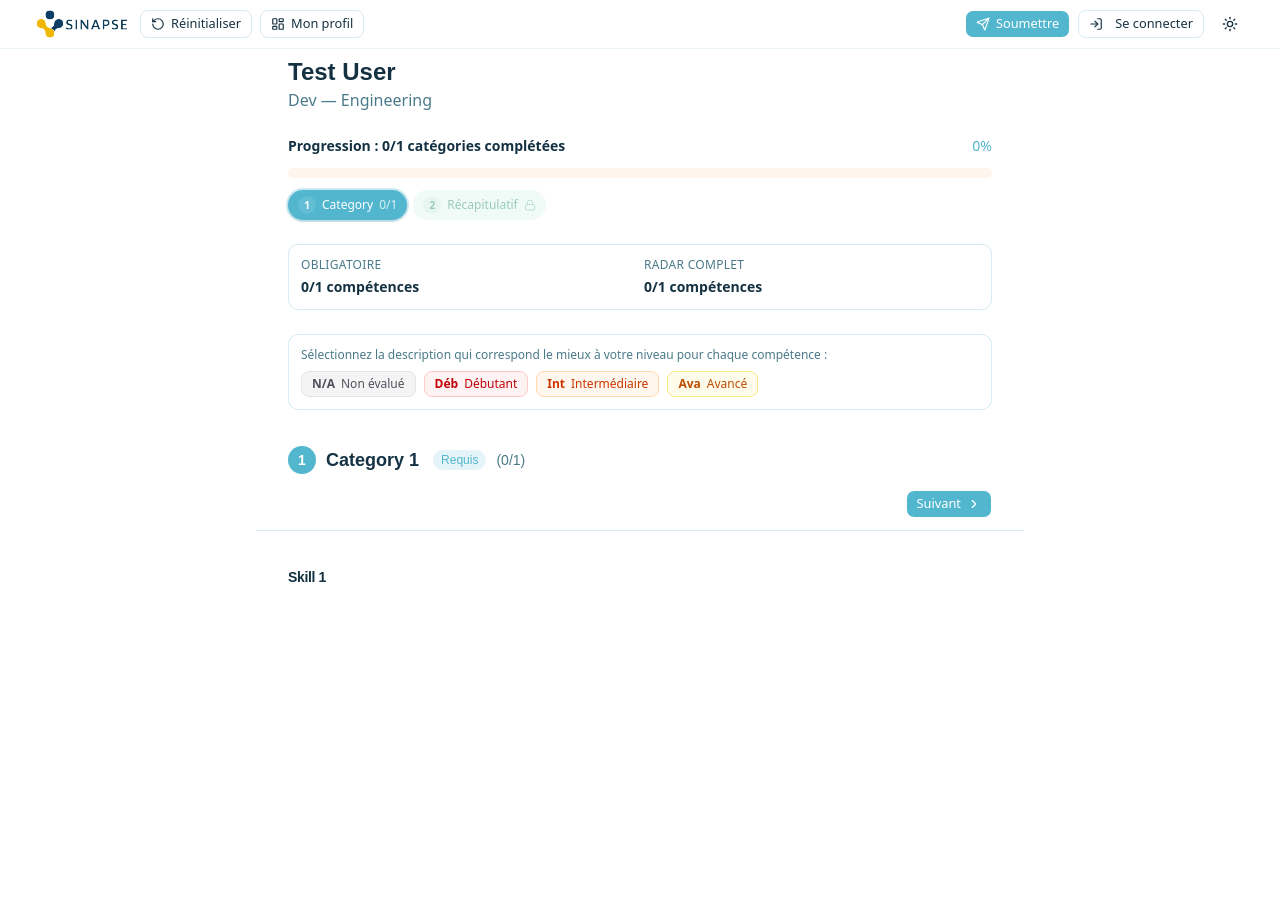
Test: FormPage — submit button & dialog › shows confirmation dialog when clicking submit on non-review step
The image size is (1280, 900).
Click the button with test id "header-submit-btn" at coordinates (1018, 24), box [965,10,1070,38]
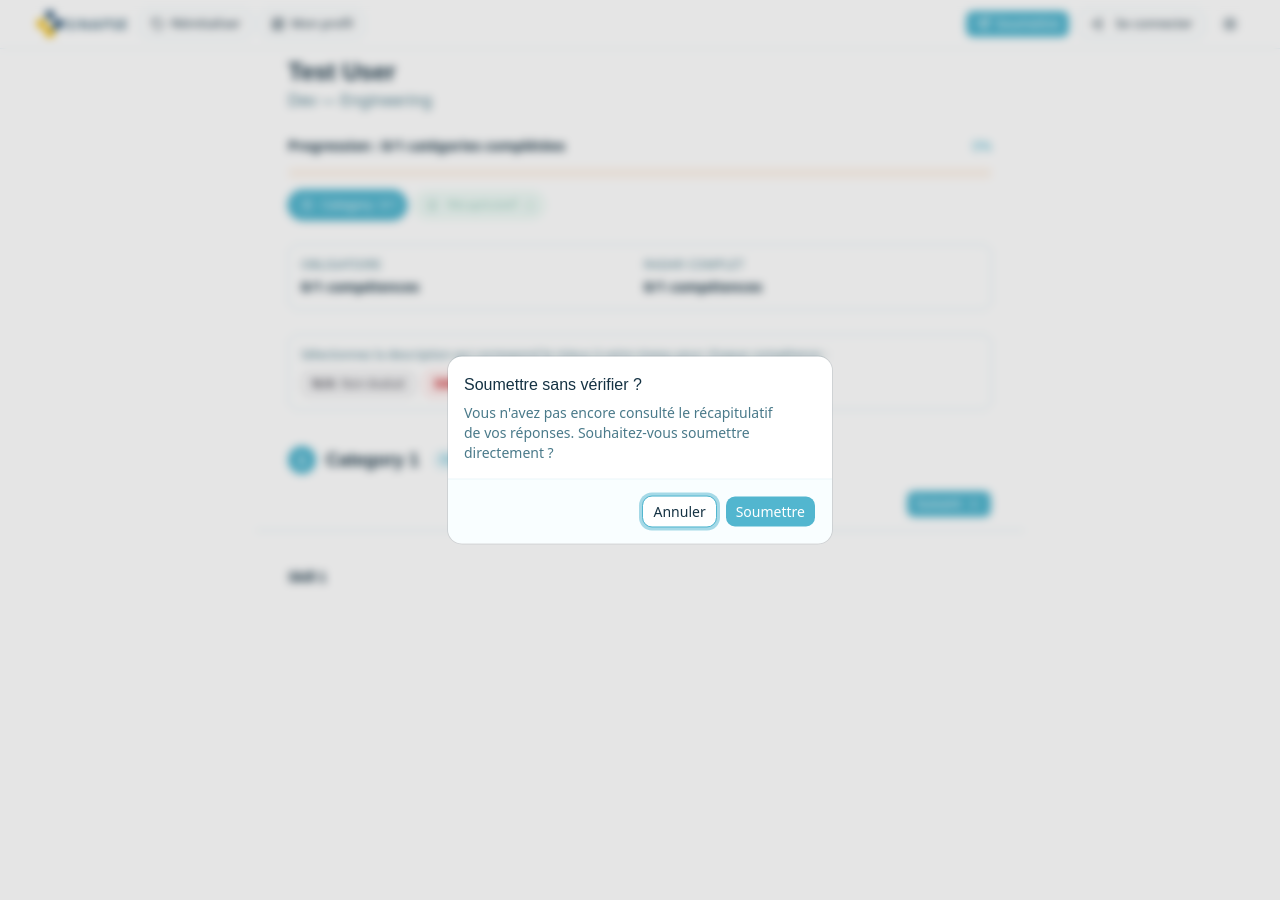
expect the heading "Soumettre sans vérifier ?" is shown: met, box [464,372,642,396]
expect the button "Annuler" is shown: met, box [642,496,717,528]
